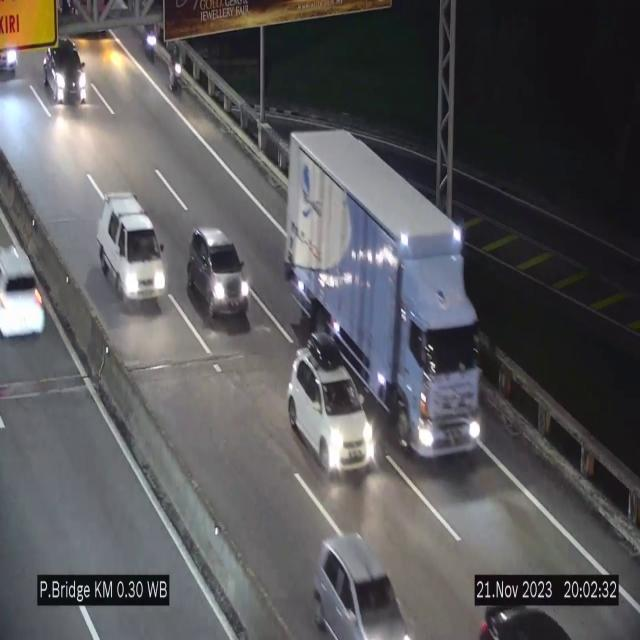Car: (307, 519, 411, 640), (288, 334, 376, 472), (97, 193, 166, 308), (0, 225, 54, 349), (188, 227, 250, 326), (40, 32, 90, 105)
Motorcycle: (166, 42, 185, 100)
Truck: (282, 131, 482, 462)
